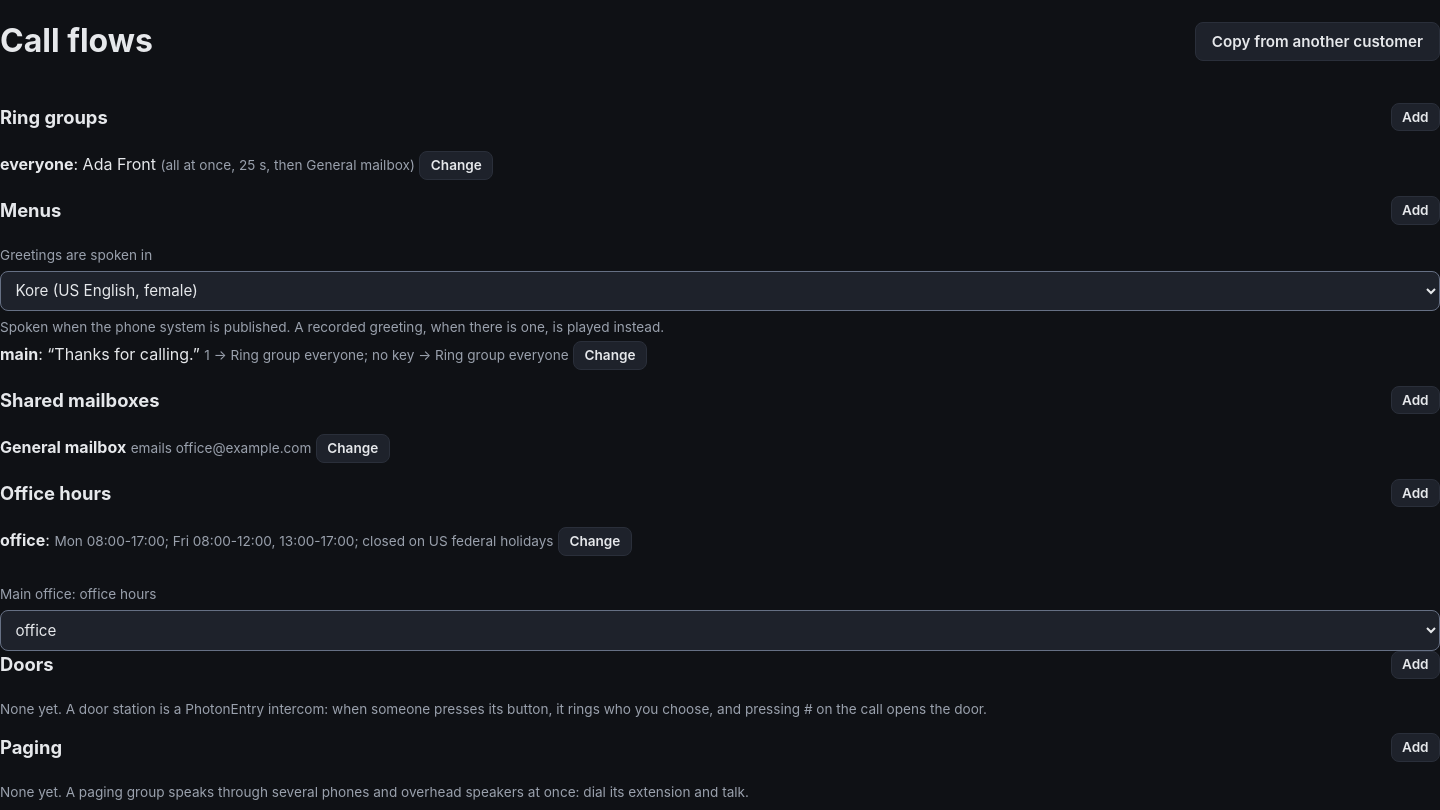
Test: clone › the dialog can be closed
Click the button "Copy from another customer" at (1317,41), box 1195,22 -> 1439,61
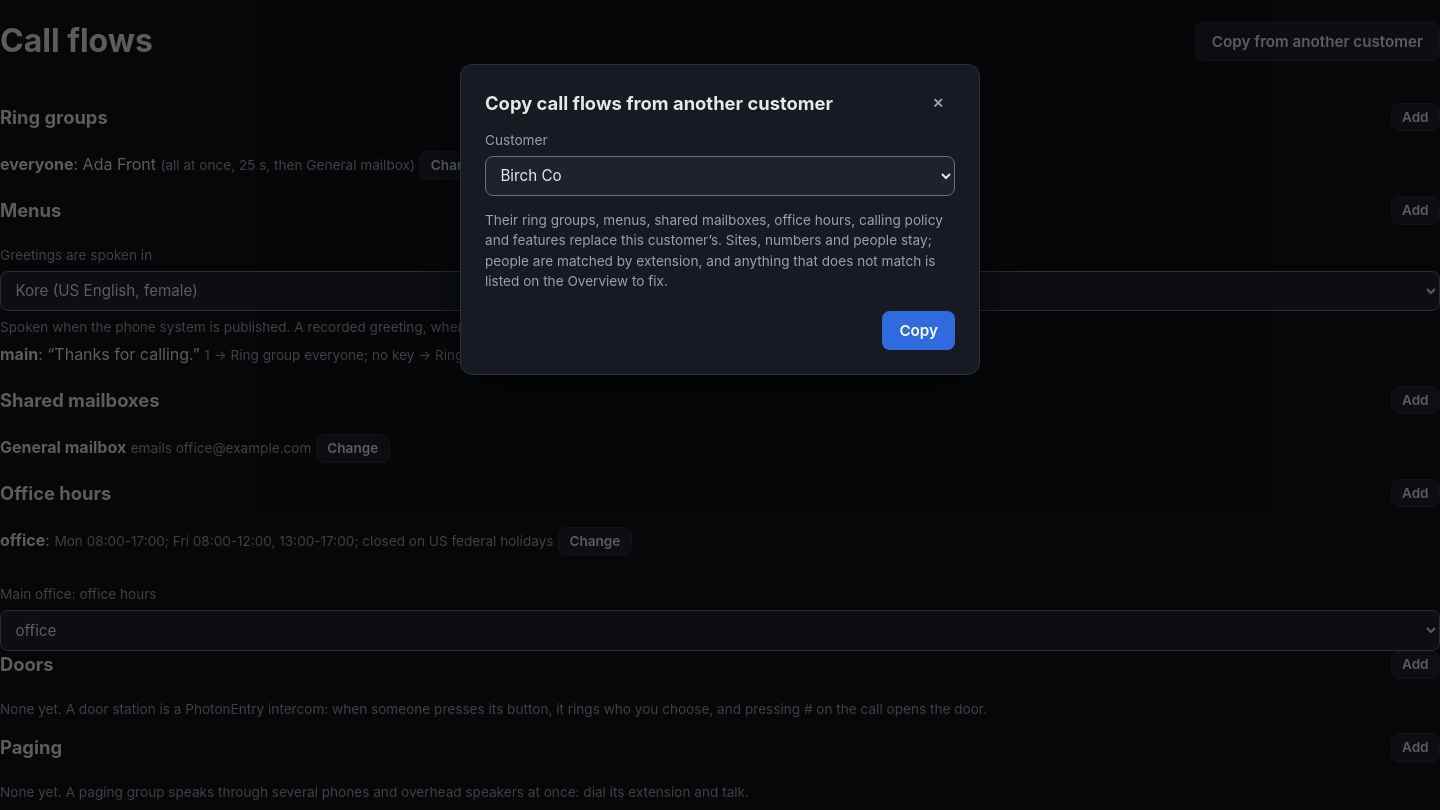
Click the button named "Close" at (938,103), box 921,89 -> 955,118
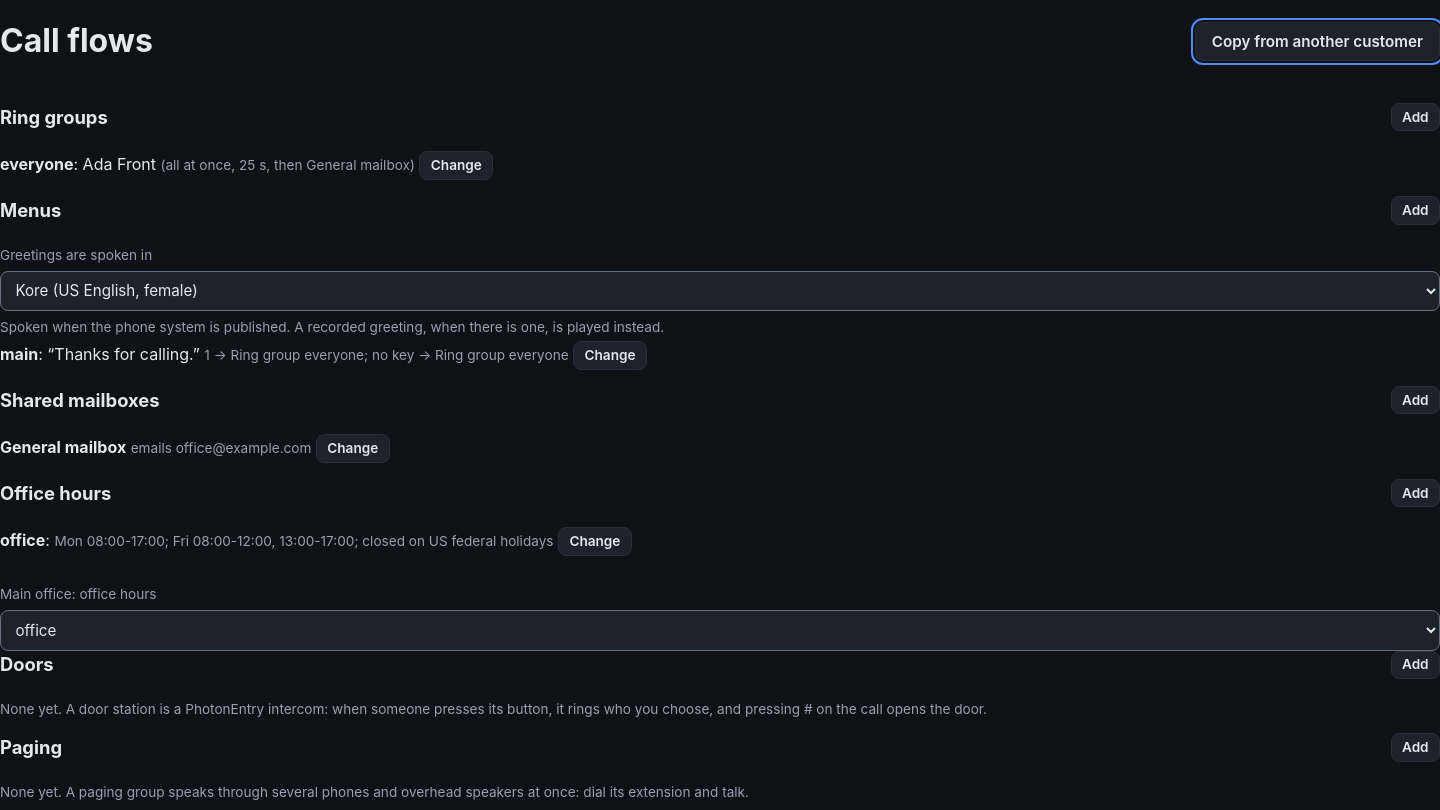
Expected: the dialog is gone
